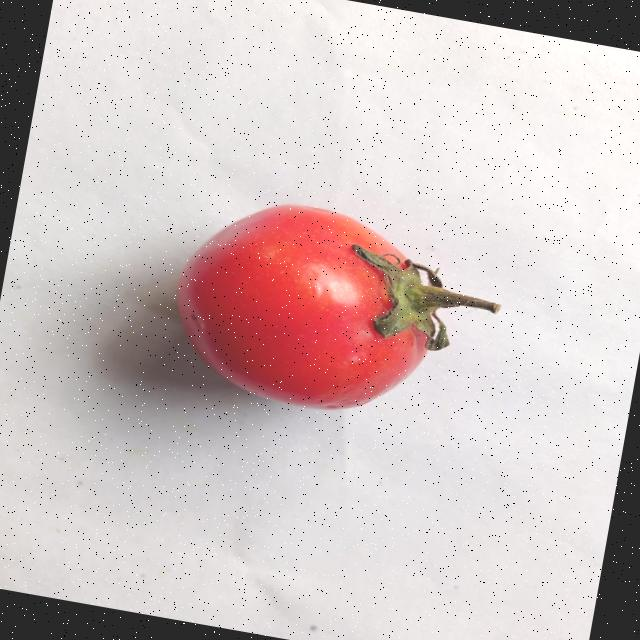Tomato: (158, 182, 521, 442)
